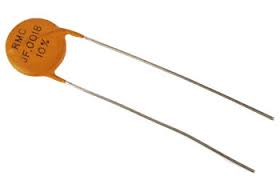ceramic capacitor: (2, 7, 94, 108)
